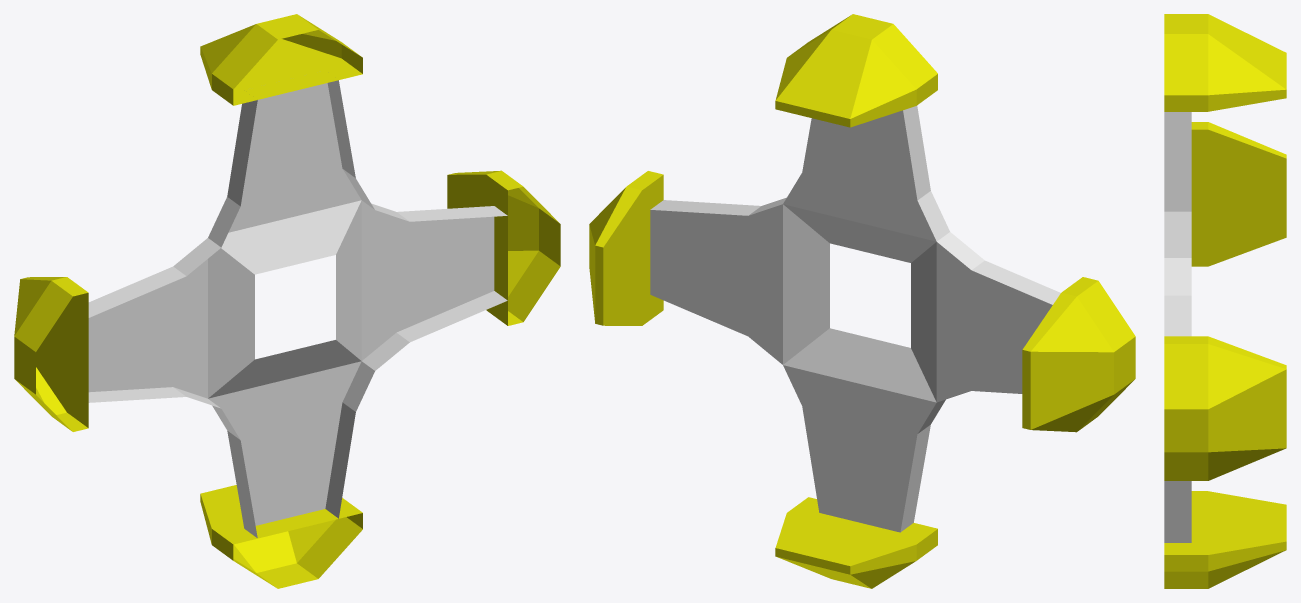
The model's file is Axiel_Base.fbx.
3 views of the same model, side by side, from view 1: azimuth 30°, elevation 25°; view 2: azimuth 150°, elevation 25°; view 3: azimuth 270°, elevation 25° (orthographic).
Visible parts, largest first — view 1: Gun_Base; view 2: Gun_Base; view 3: Gun_Base.
Boxes of the visible parts, x1,y1,x2,y2 form: Gun_Base: [14, 14, 560, 588]; Gun_Base: [589, 14, 1135, 588]; Gun_Base: [1164, 14, 1286, 588].
Size of the model in its own units: 20.73 by 20.73 by 4.13.
